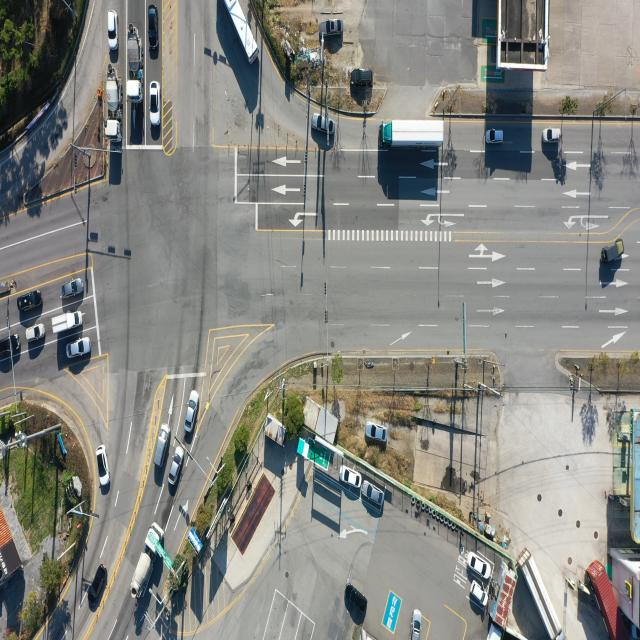car: (344, 584, 368, 614), (156, 423, 172, 467), (88, 563, 106, 602), (169, 444, 185, 485), (470, 553, 493, 580), (184, 390, 198, 434), (97, 445, 111, 487), (0, 333, 21, 361), (600, 240, 624, 264), (362, 483, 384, 507), (340, 465, 362, 488), (18, 291, 43, 311), (311, 114, 336, 134), (472, 578, 490, 605), (67, 339, 91, 359), (62, 279, 85, 299), (150, 81, 160, 125), (364, 423, 386, 442), (149, 5, 158, 50), (108, 10, 118, 49), (352, 68, 373, 86), (411, 609, 423, 640), (26, 323, 45, 341), (323, 19, 342, 36), (544, 128, 562, 144), (486, 130, 504, 145)
large_bus: (220, 0, 256, 62)
medium_truck: (522, 548, 564, 638), (130, 524, 165, 600), (379, 120, 446, 148), (126, 26, 143, 99), (105, 77, 121, 145)
small_truck: (50, 311, 83, 334)
